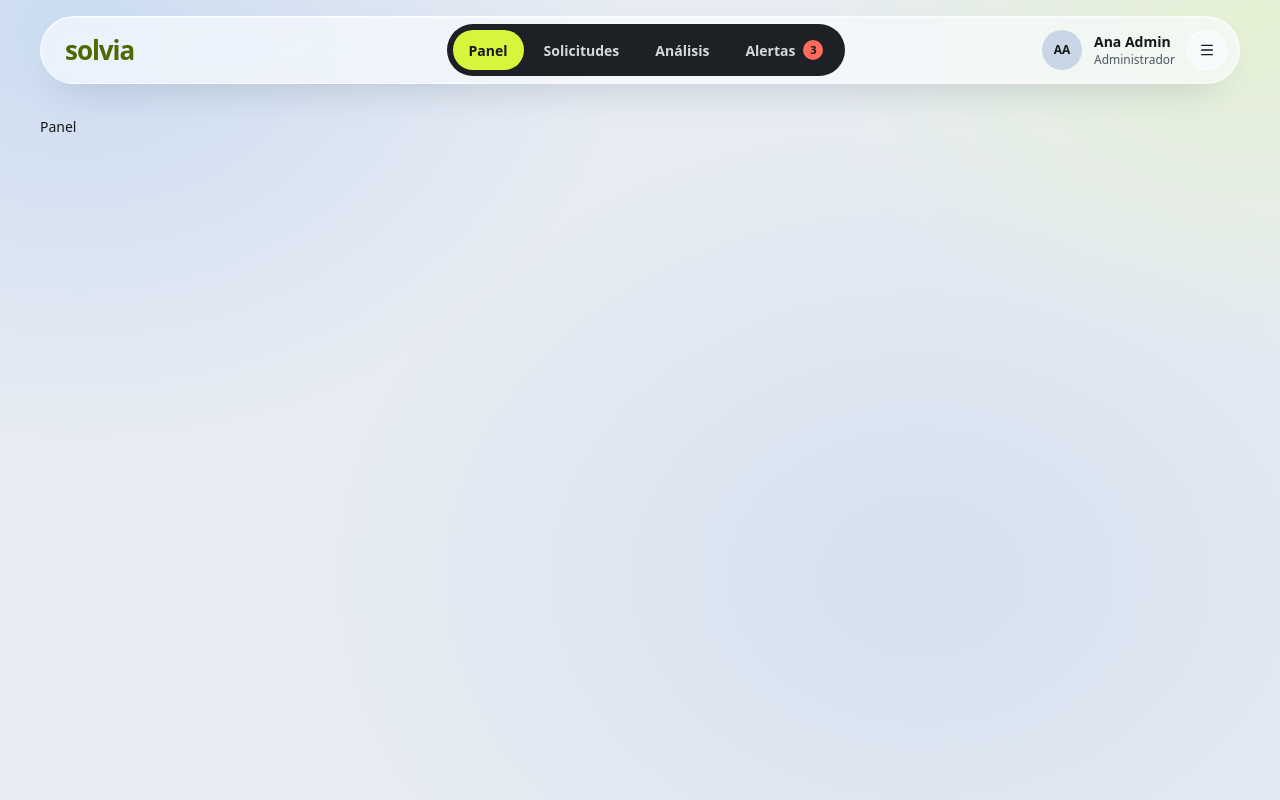
barra superior y navegación › el menú lleva a Configuración y devuelve el foco al cerrarse
Click the button named "Menú de la cuenta" at (1207, 50), box [1187, 30, 1227, 70]
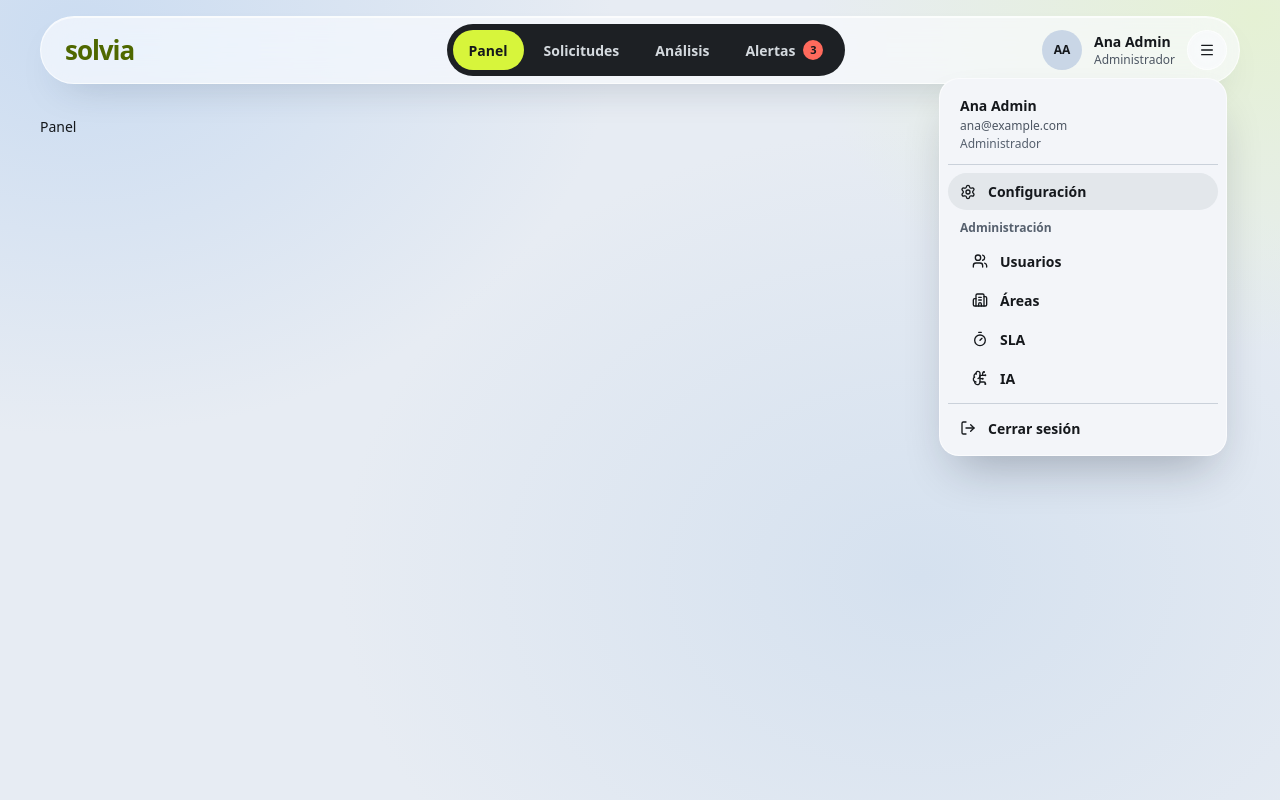
Now the text "ana@example.com" is shown, box [960, 117, 1067, 134]
Click the menu item "Configuración" at (1083, 192), box [948, 173, 1218, 210]
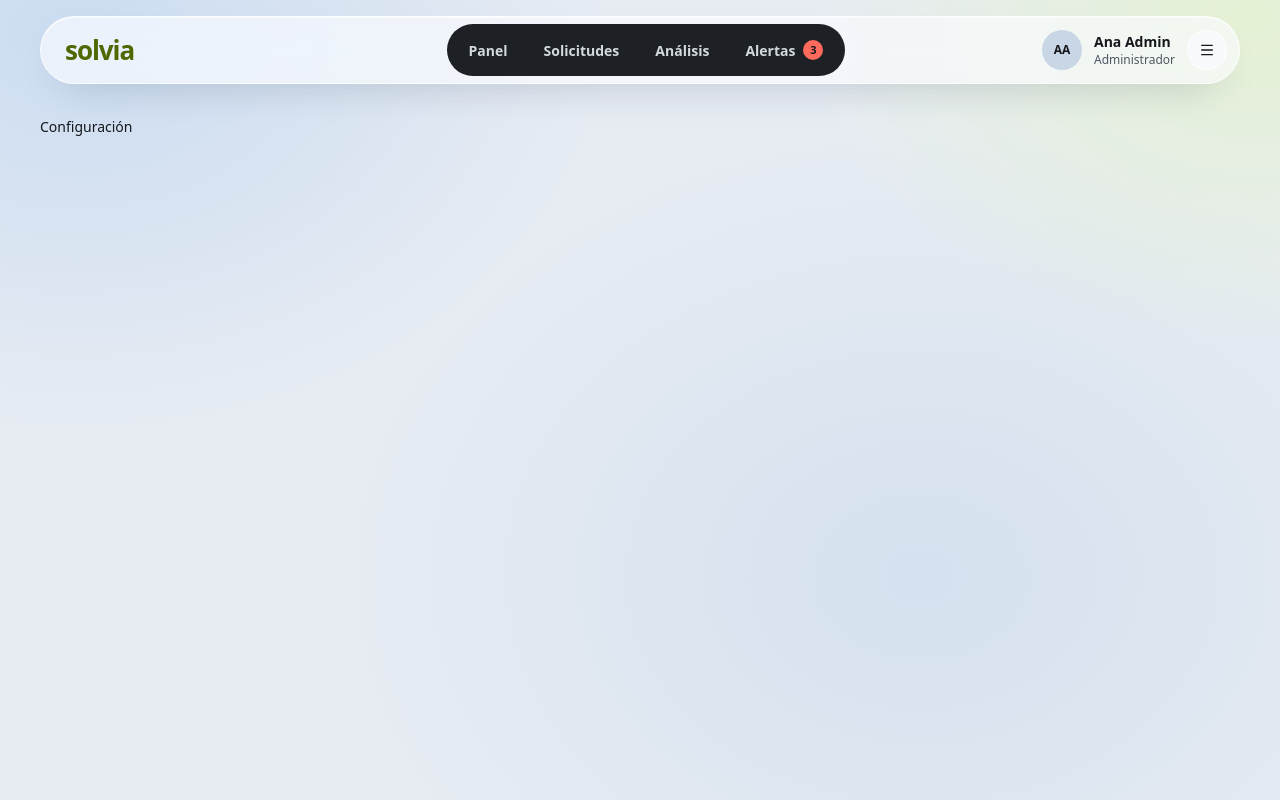
Now the menu is gone
